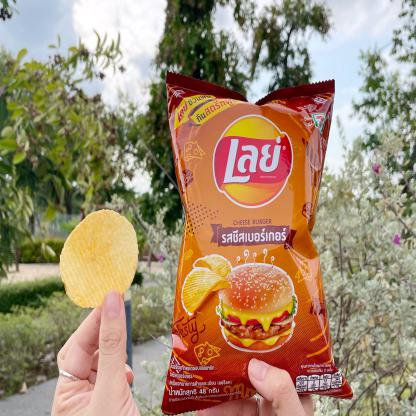potatochip: (155, 67, 356, 415)
